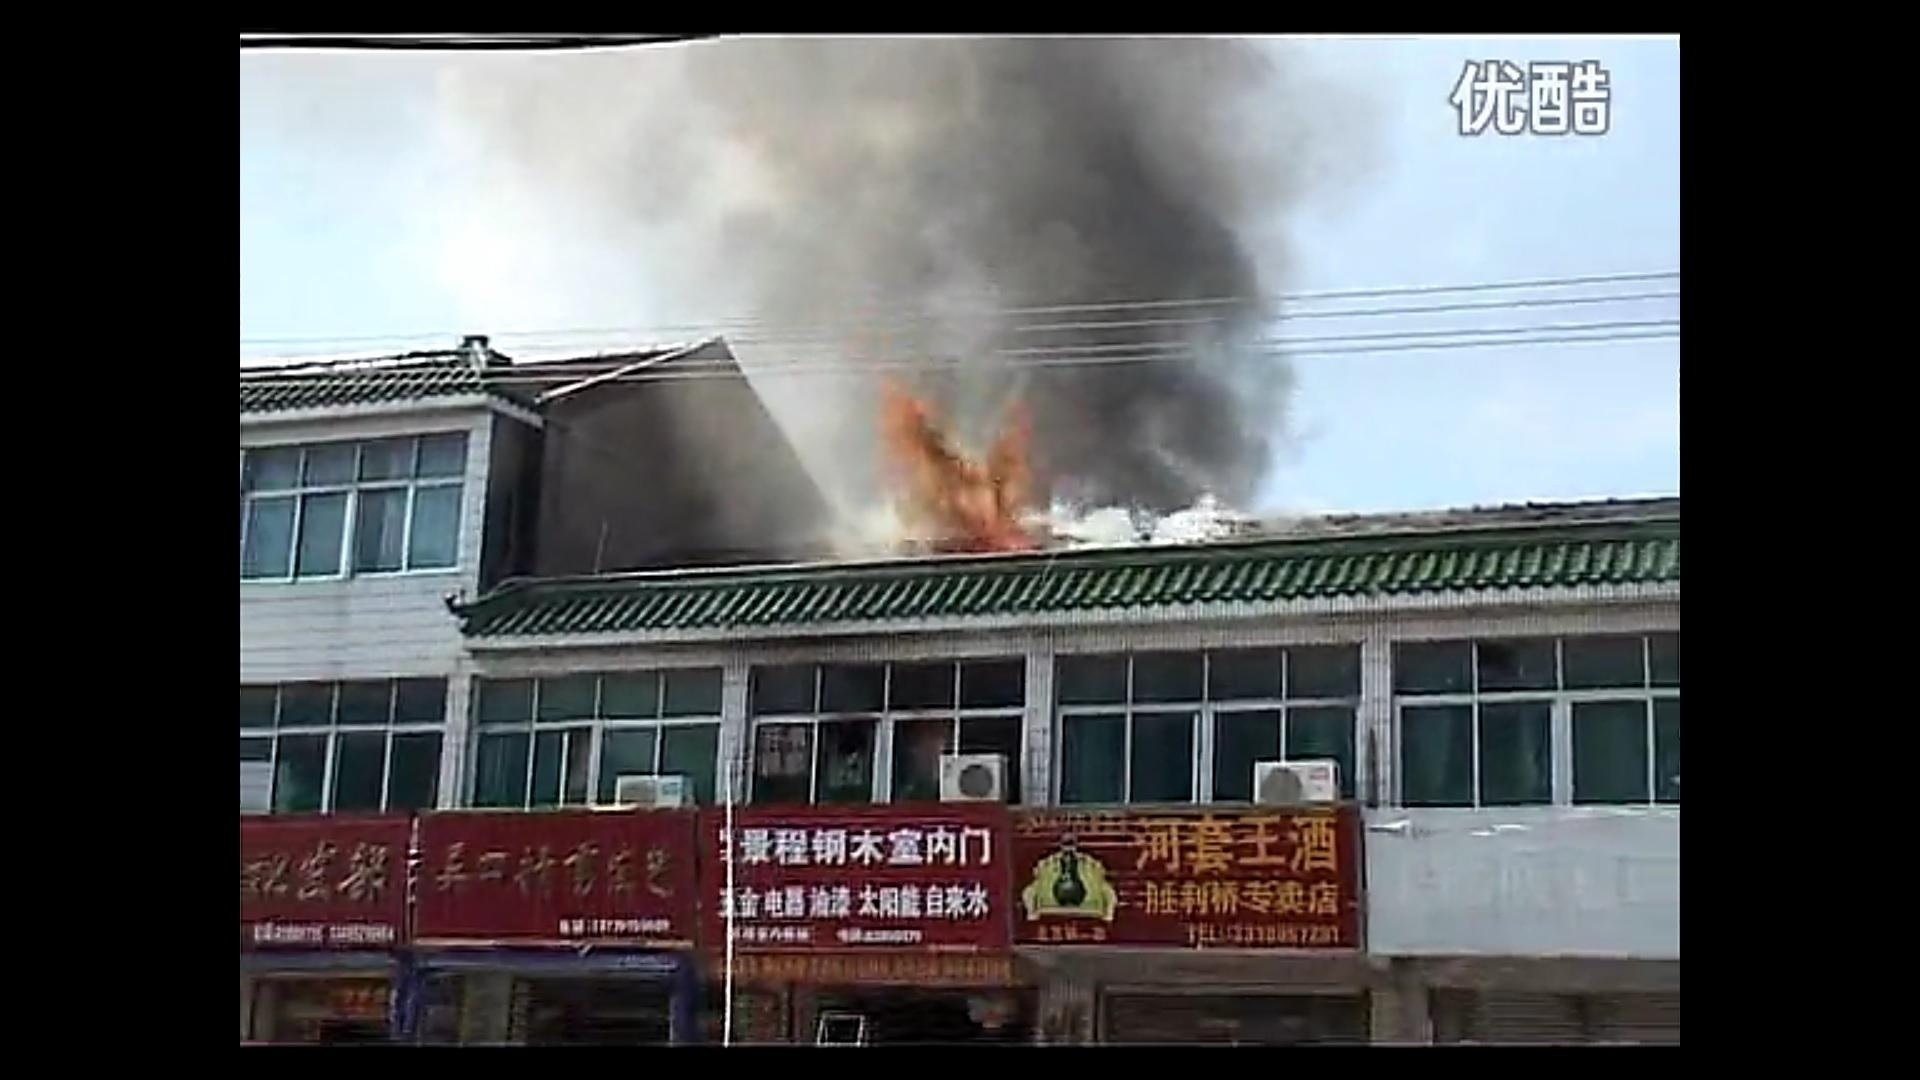fire: (878, 385, 1046, 553)
